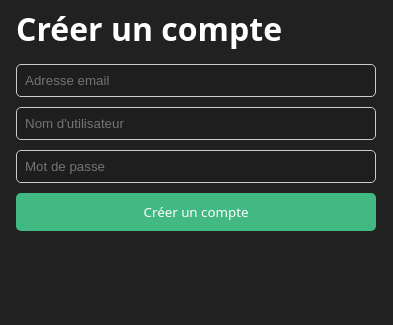
Test: Register.vue › should show error when email is empty
Type "test" into the field with test id "register-username" at [196, 124], box [16,107,376,140]
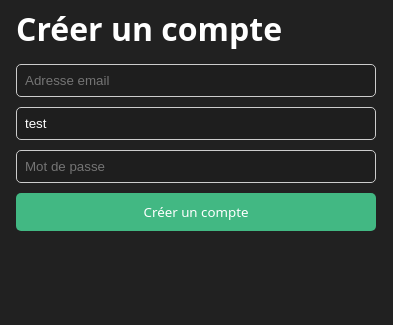
Type "test" into the password field with test id "register-password" at [196, 167], box [16,150,376,183]
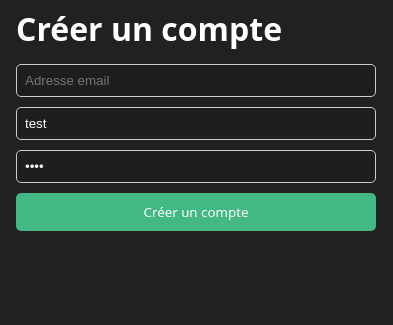
Submit the form, box [16,64,376,231]
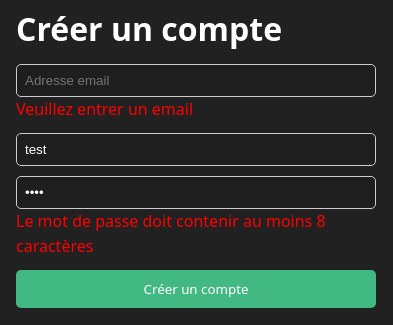
Expected: the text "Veuillez entrer un email" is shown, [16,98,193,120]
